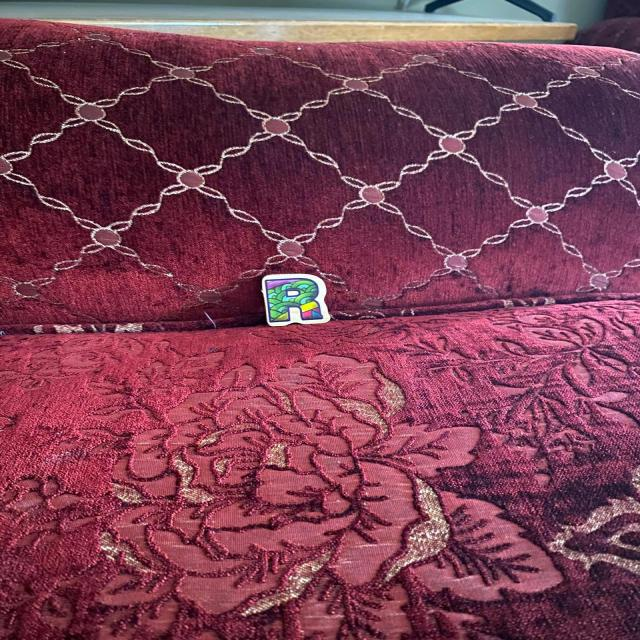R: (262, 274, 329, 326)
